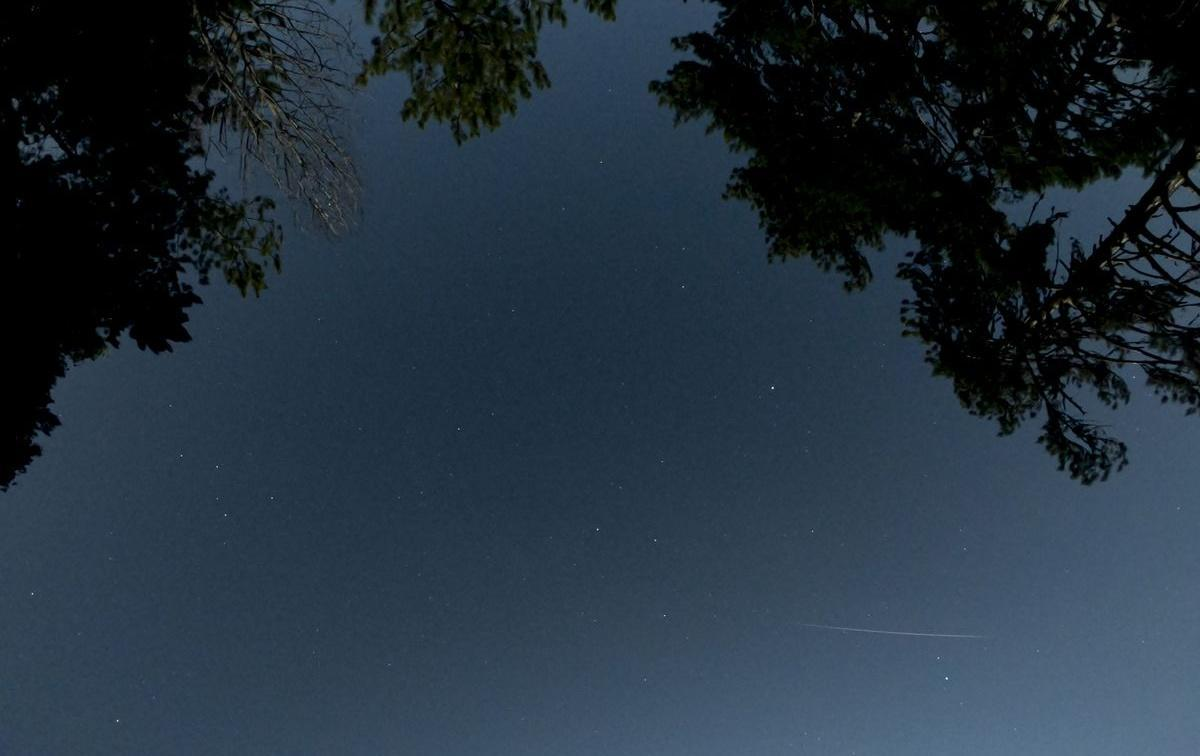meteorite: (793, 614, 1002, 645)
